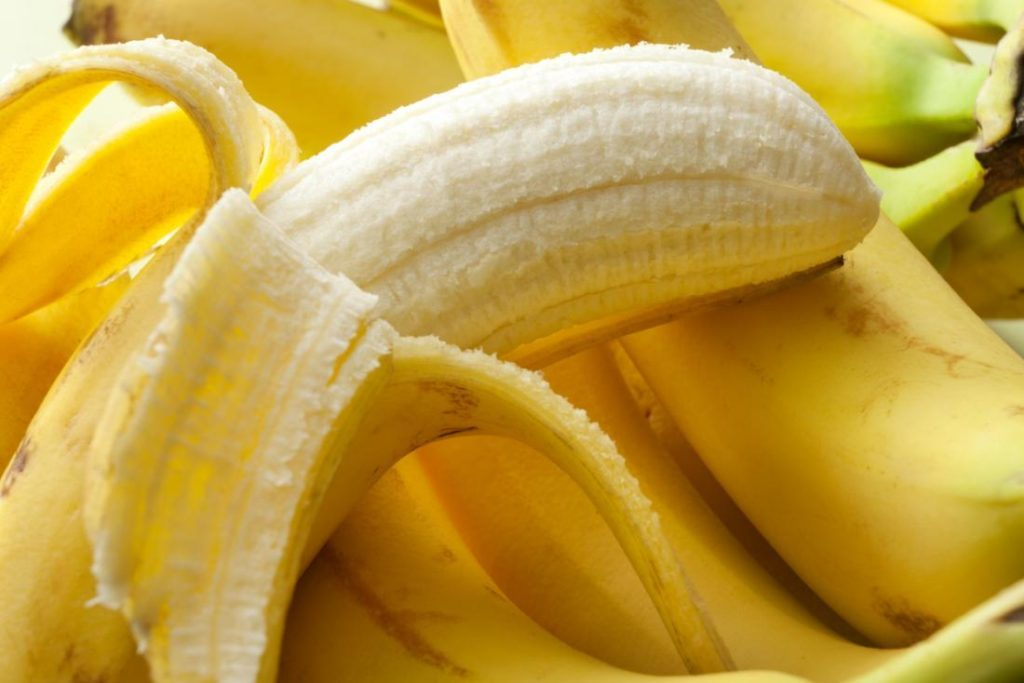banana: (42, 40, 890, 639), (437, 3, 1024, 614)
